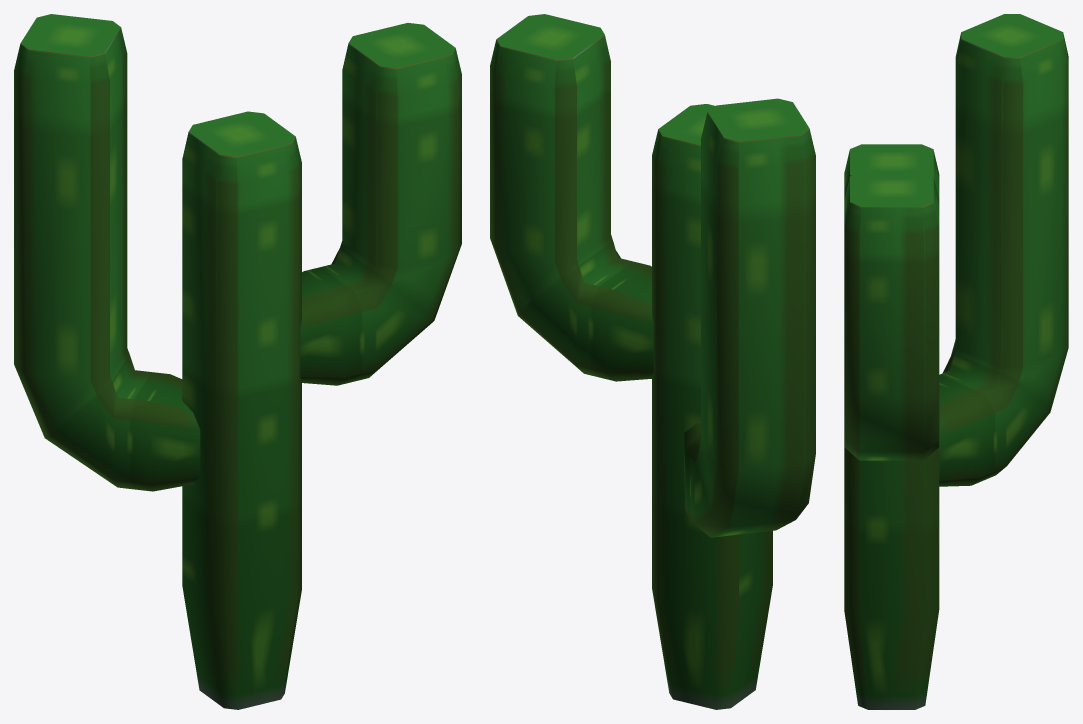
File: cactus_v056.fbx
The picture shows the model from 3 angles, left to right: view 1: azimuth 30°, elevation 25°; view 2: azimuth 150°, elevation 25°; view 3: azimuth 270°, elevation 25°; orthographic projection. The views are drawn at different scales.
Visible parts, largest first — view 1: cactus_v056; view 2: cactus_v056; view 3: cactus_v056.
Boxes of the visible parts, x1,y1,x2,y2 form: cactus_v056: (14,14,461,709); cactus_v056: (490,14,815,709); cactus_v056: (844,14,1068,709).
Size of the model in its own units: 223 by 374 by 125.
